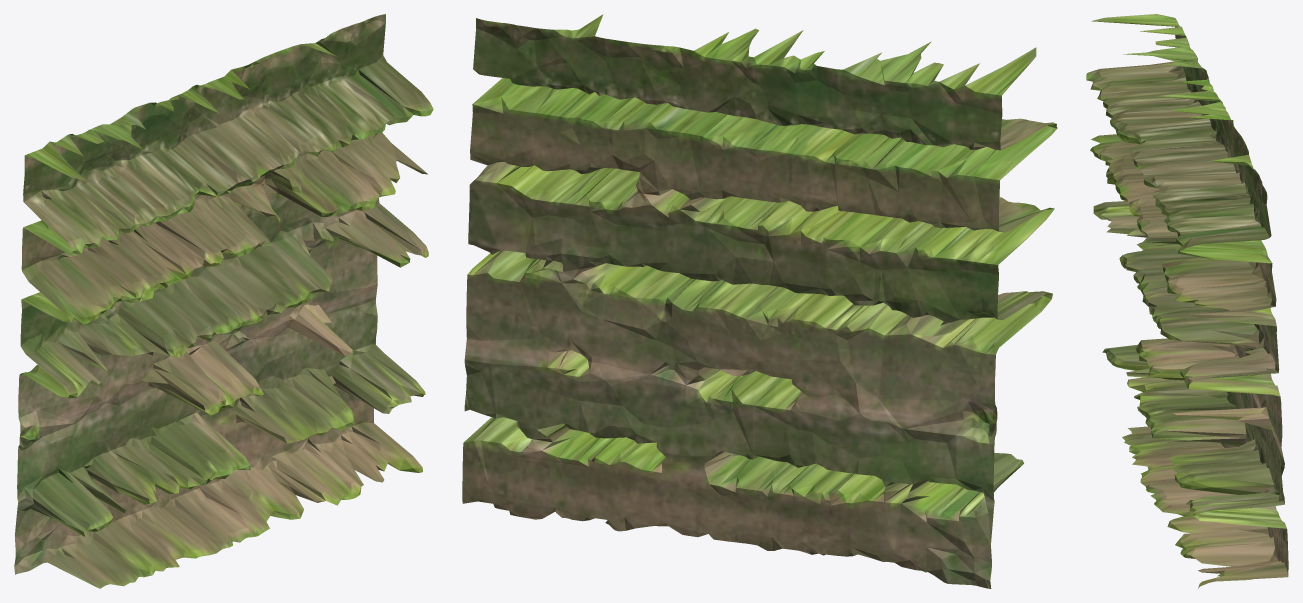
The model's file is map_220_30.obj.
The picture shows the model from 3 angles, left to right: view 1: azimuth 30°, elevation 25°; view 2: azimuth 150°, elevation 25°; view 3: azimuth 270°, elevation 25°; orthographic projection. The views are drawn at different scales.
Visible parts, largest first — view 1: grp1; view 2: grp1; view 3: grp1.
Boxes of the visible parts, box(x1,y1,x2,y2) form: grp1: box(14, 14, 433, 588); grp1: box(462, 14, 1057, 588); grp1: box(1086, 14, 1288, 588).
Bounding box in the file's own units: 10 × 10 × 4.67.
1 material, 1 textured.
